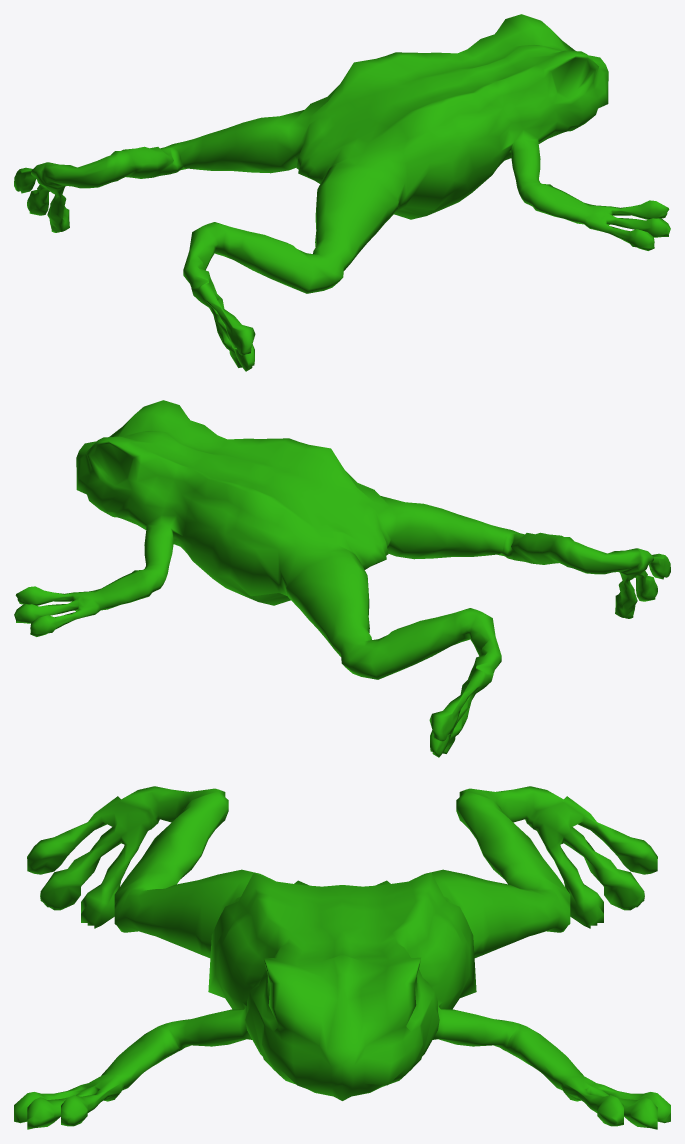
The model's file is frog.obj.
3 views of the same model, one above another, from view 1: azimuth 30°, elevation 25°; view 2: azimuth 150°, elevation 25°; view 3: azimuth 270°, elevation 25° (orthographic). The views are drawn at different scales.
Visible parts, largest first — view 1: Object polySurface6 polySurface1, polySurface1; view 2: Object polySurface6 polySurface1, polySurface1; view 3: Object polySurface6 polySurface1, polySurface1.
Part boxes in pixels (box(x1,y1,x2,y2)): Object polySurface6 polySurface1: box(14, 14, 670, 371); polySurface1: box(30, 58, 668, 322); Object polySurface6 polySurface1: box(14, 400, 670, 757); polySurface1: box(16, 444, 654, 708); Object polySurface6 polySurface1: box(14, 786, 670, 1129); polySurface1: box(96, 824, 588, 1100).
Bounding box in the file's own units: 18.07 × 5.86 × 15.31.
